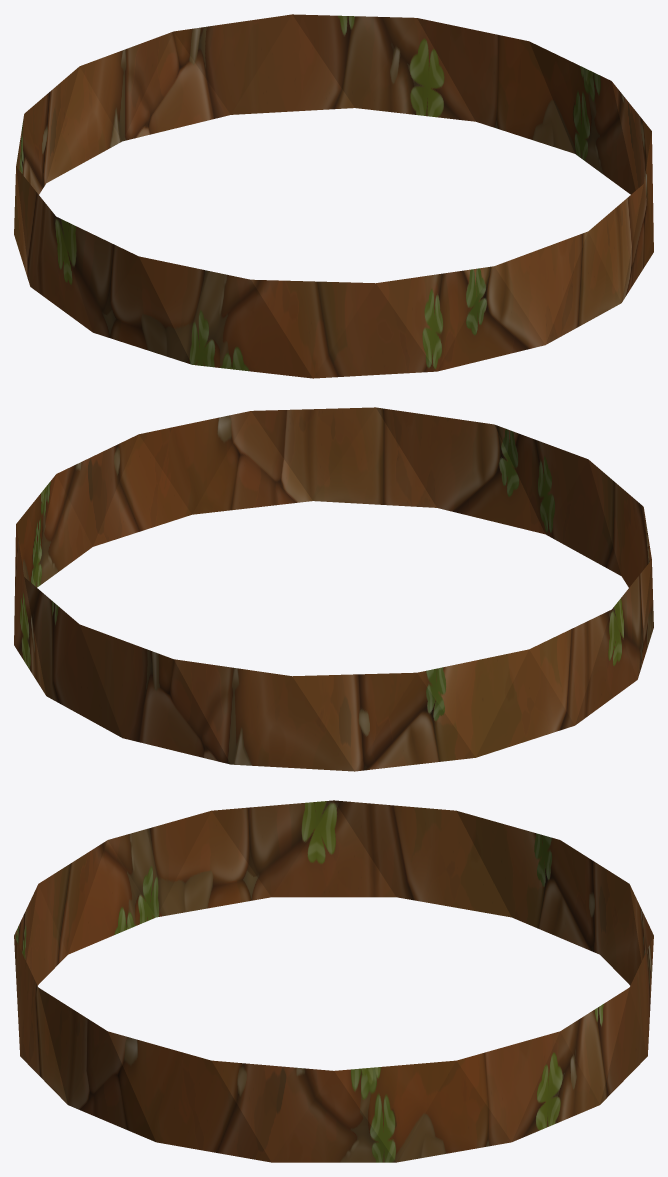
File: Container.fbx
3 views of the same model, one above another, from view 1: azimuth 30°, elevation 25°; view 2: azimuth 150°, elevation 25°; view 3: azimuth 270°, elevation 25° (orthographic).
Parts seen in each view (by area): view 1: Circle; view 2: Circle; view 3: Circle.
Boxes of the visible parts, x1=… form: Circle: x1=14, y1=14, x2=653, y2=378; Circle: x1=14, y1=407, x2=653, y2=771; Circle: x1=14, y1=800, x2=653, y2=1162.
Bounding box in the file's own units: 2601 × 423 × 2601.
